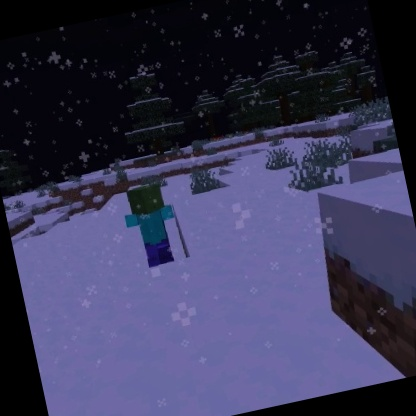zombie: (115, 177, 186, 272)
